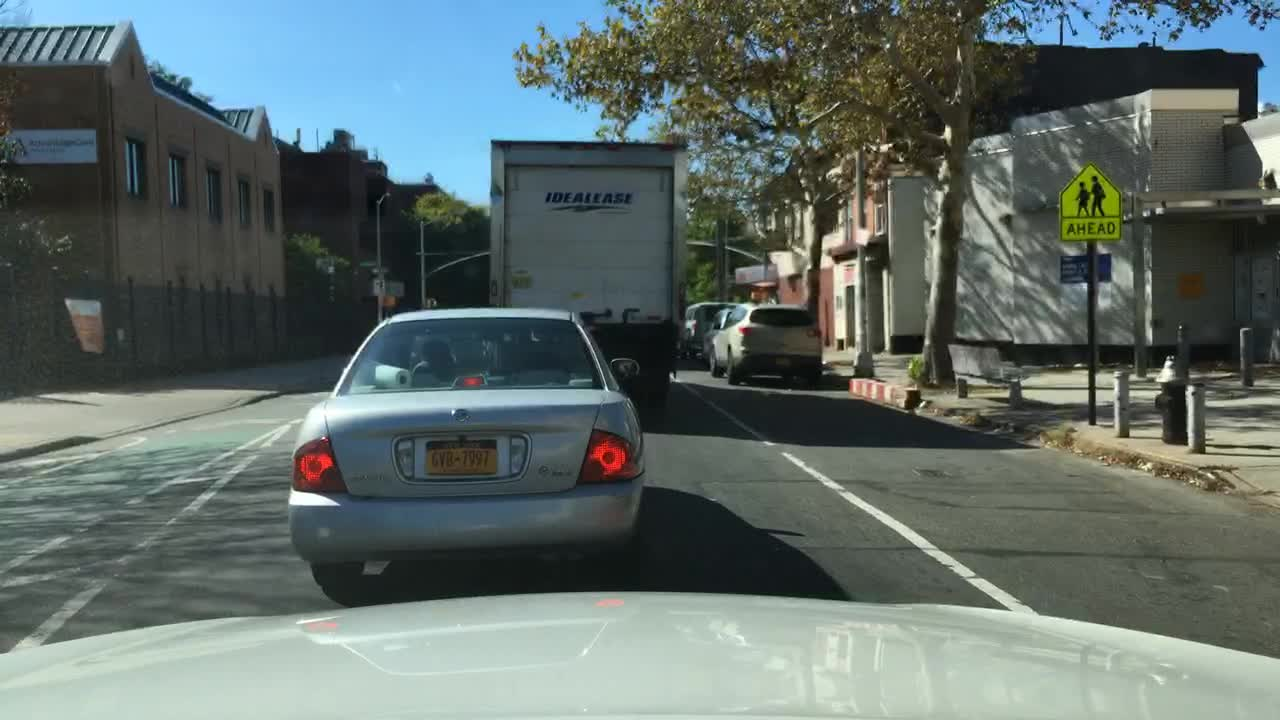car: (285, 305, 647, 588), (707, 302, 825, 386), (681, 301, 735, 363), (702, 302, 761, 358)
traffic light: (377, 292, 395, 309)
traffic sign: (1057, 162, 1123, 239), (1058, 253, 1113, 282), (372, 277, 384, 296), (359, 260, 378, 268), (371, 265, 389, 271)
truck: (486, 137, 687, 396)
